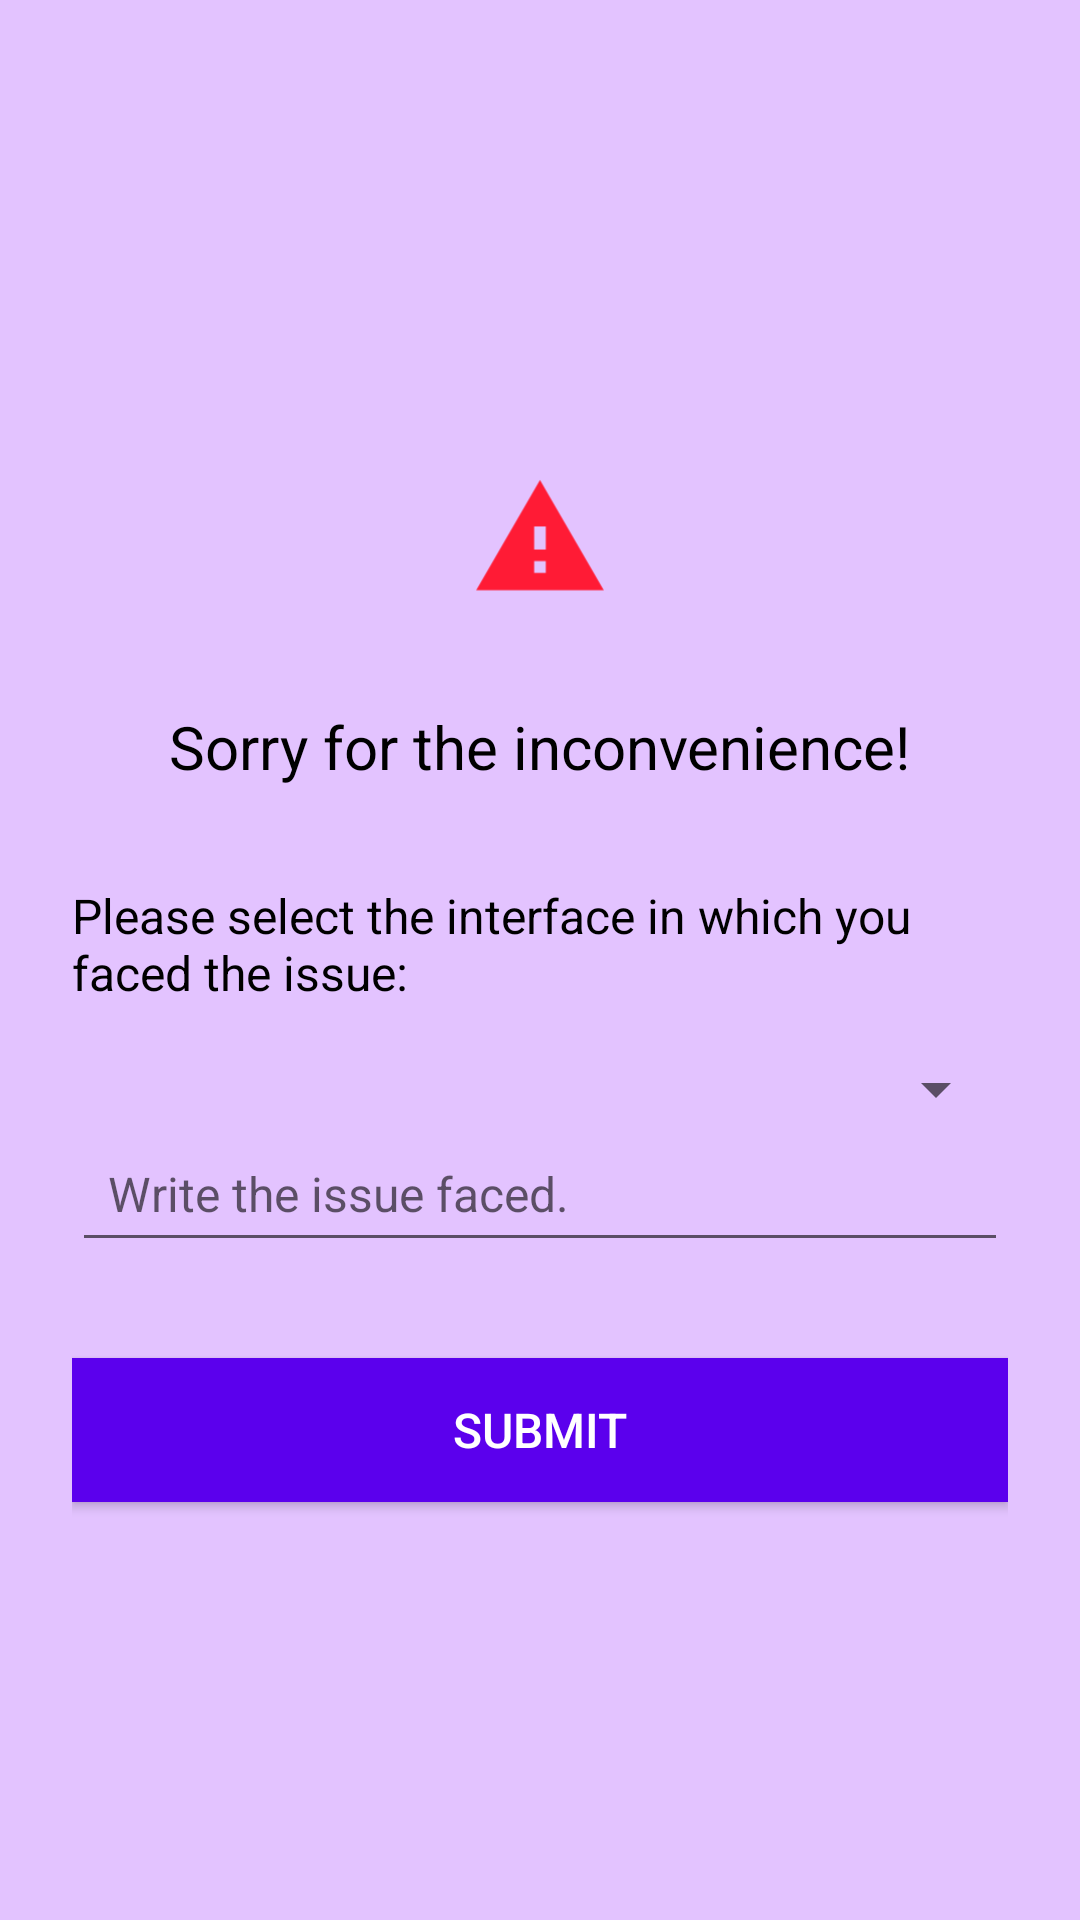

Where to tap for icons on this 1080px x 1920px app screen, as [x,y]:
Error Icon: [540,535]
